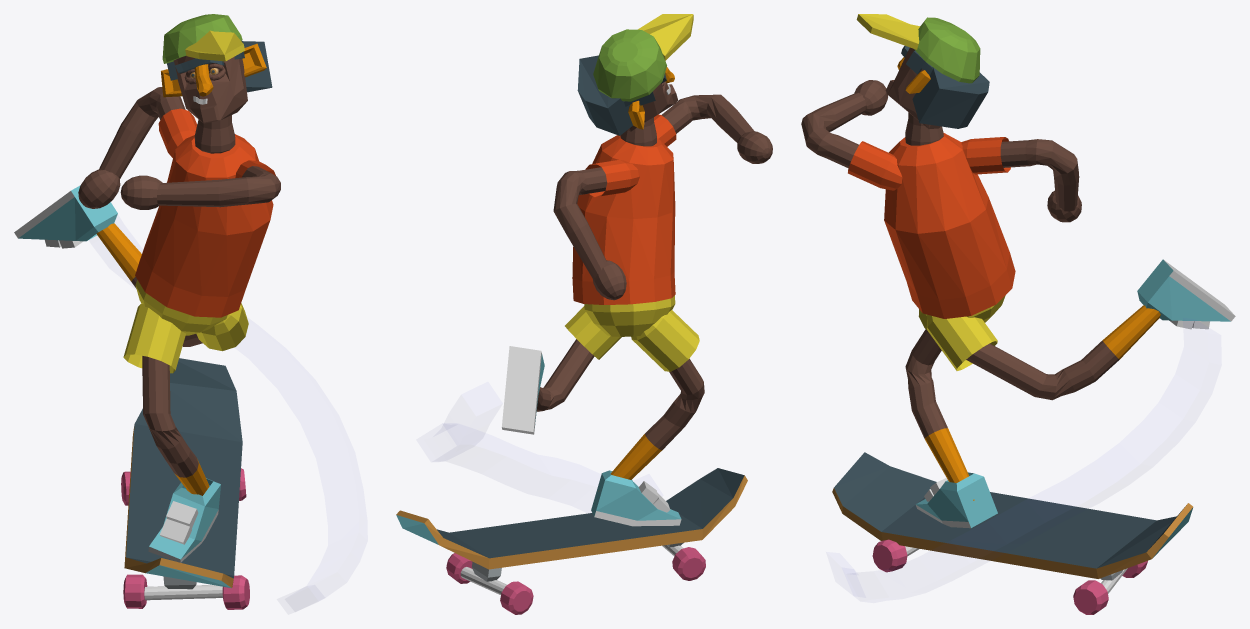
3 views of the same model, side by side, from view 1: azimuth 30°, elevation 25°; view 2: azimuth 150°, elevation 25°; view 3: azimuth 270°, elevation 25° (orthographic). The views are drawn at different scales.
Visible parts, largest first — view 1: node_MeshObject-90779328-PolyPaper20; view 2: node_MeshObject-90779328-PolyPaper20; view 3: node_MeshObject-90779328-PolyPaper20.
Part boxes in pixels (x1=…): node_MeshObject-90779328-PolyPaper20: x1=14, y1=14, x2=280, y2=609; node_MeshObject-90779328-PolyPaper20: x1=396, y1=14, x2=772, y2=614; node_MeshObject-90779328-PolyPaper20: x1=801, y1=14, x2=1235, y2=614.
Size of the model in its own units: 0.9649 by 1.87 by 1.33.
